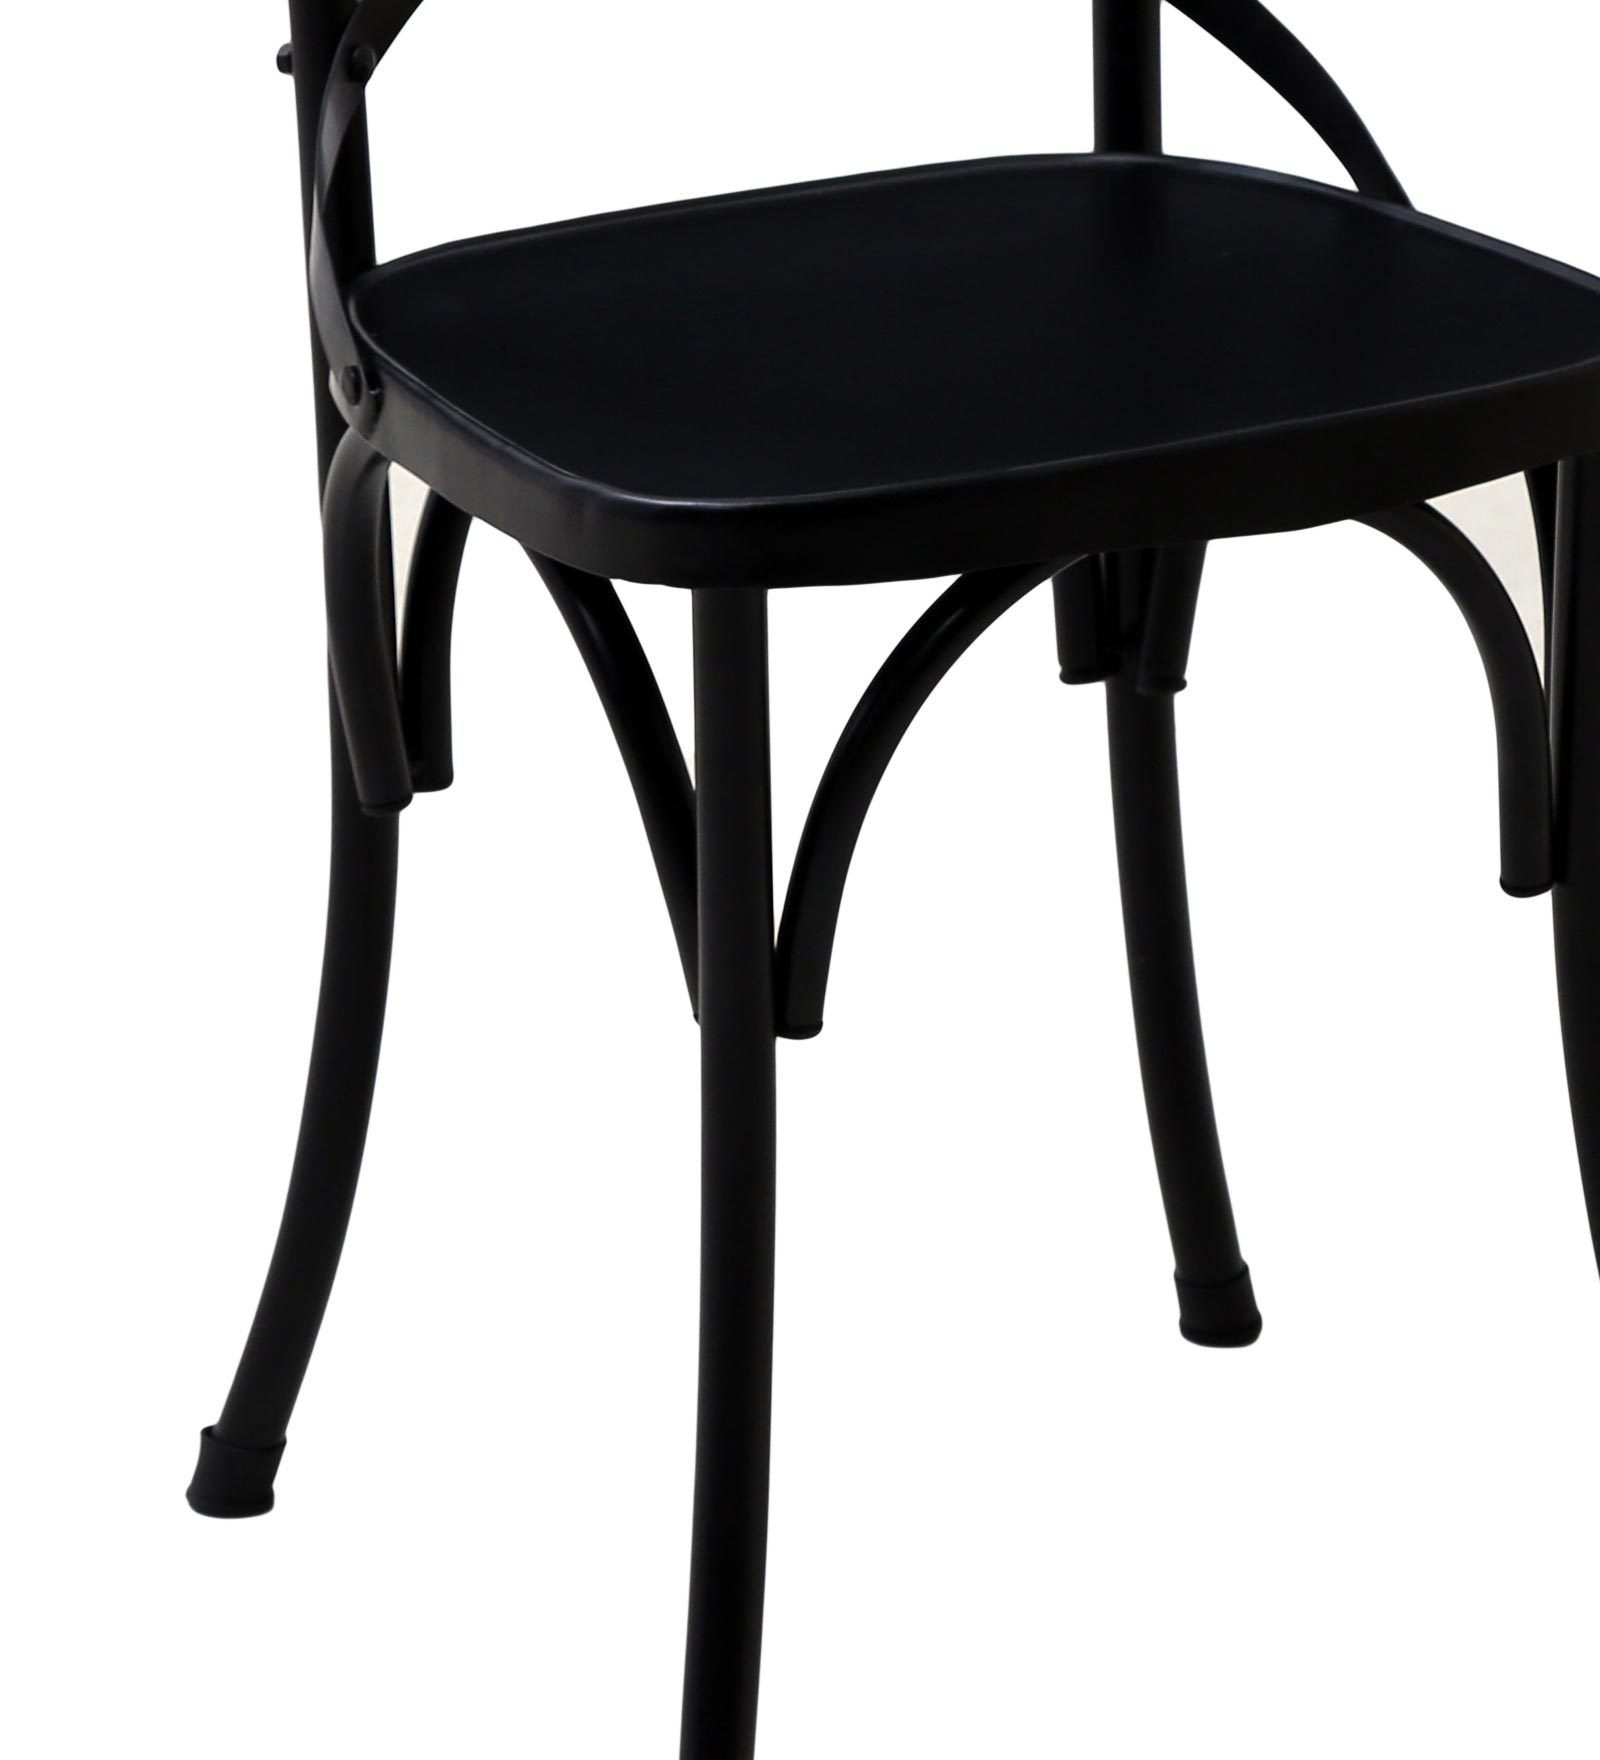Fabian Metal Chair in Black Color by Bohemiana: (236, 5, 1600, 1734)
